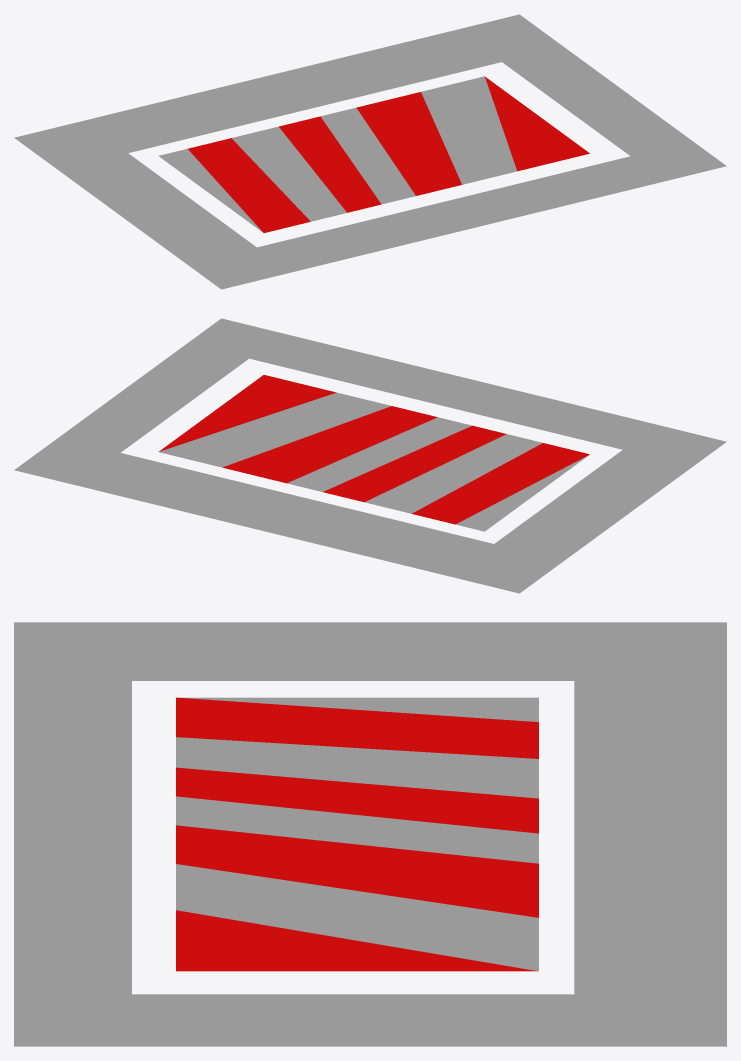
File: Analyze Zone.fbx
The picture shows the model from 3 angles, top to bottom: view 1: azimuth 30°, elevation 25°; view 2: azimuth 150°, elevation 25°; view 3: azimuth 270°, elevation 25°; orthographic projection. The views are drawn at different scales.
Visible parts, largest first — view 1: pPlane2, pPlane1; view 2: pPlane2, pPlane1; view 3: pPlane2, pPlane1.
Boxes of the visible parts, bbox=[...] form: pPlane2: bbox=[14, 14, 726, 289]; pPlane1: bbox=[159, 76, 589, 232]; pPlane2: bbox=[14, 318, 726, 593]; pPlane1: bbox=[159, 375, 589, 531]; pPlane2: bbox=[14, 622, 726, 1046]; pPlane1: bbox=[176, 697, 538, 971].
Bounding box in the file's own units: 222 × 0 × 158.
